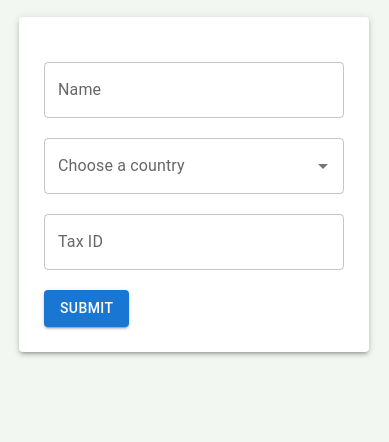
Test case: tax app app › should display validation errors for incorrect inputs
Type "Fi" into the field with id "name" at point(194, 90), box [44,62,344,118]
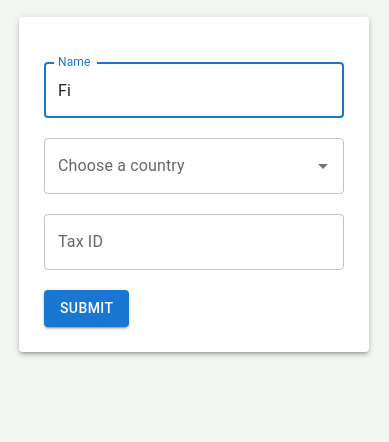
Type "123" into the field with id "tax" at point(194, 242), box [44,214,344,270]
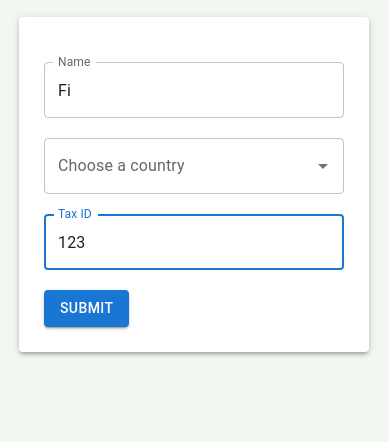
Click the button "Submit" at point(87, 309), box [44,290,129,327]
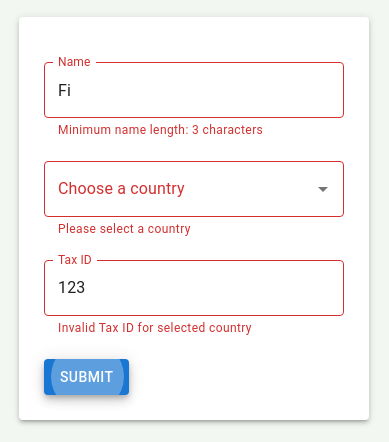
Check: the text "Minimum name length: 3 characters" is shown, box [58,123,263,137]
Check: the text "Please select a country" is shown, box [58,222,191,236]
Check: the text "Invalid Tax ID for selected country" is shown, box [58,321,252,335]
